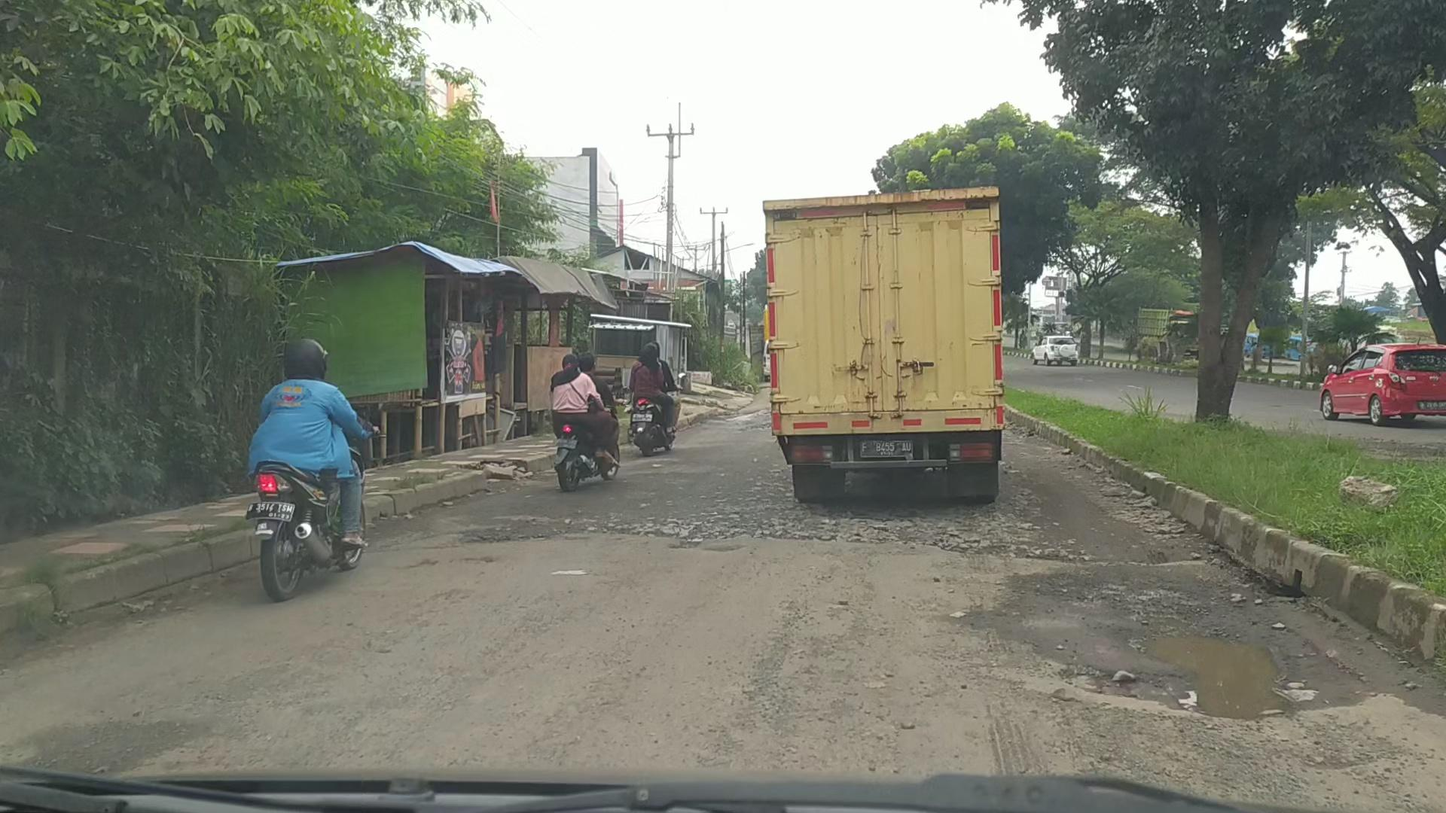pothole: (955, 559, 1366, 714)
